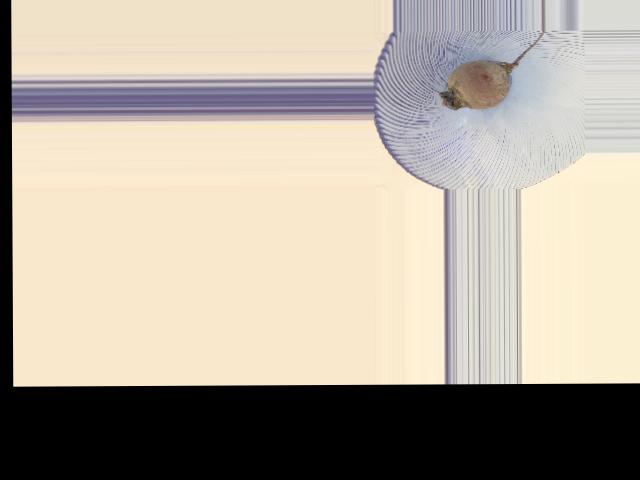beet: (438, 29, 544, 109)
